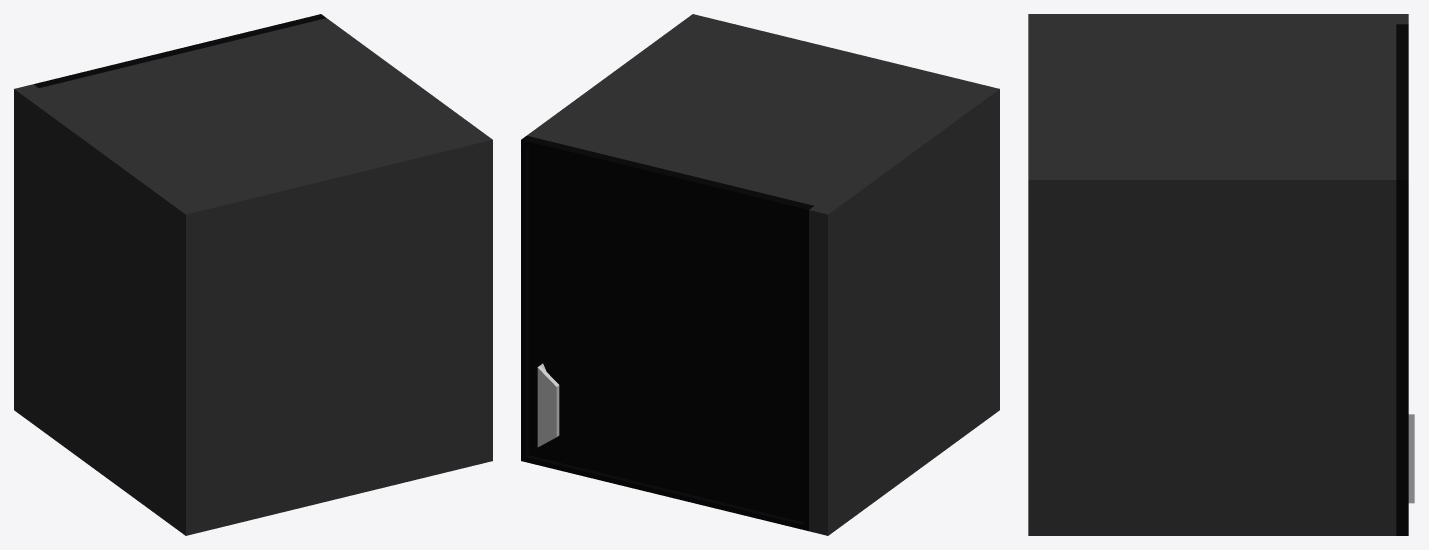
The model's file is black_cupboard.gltf.
3 views of the same model, side by side, from view 1: azimuth 30°, elevation 25°; view 2: azimuth 150°, elevation 25°; view 3: azimuth 270°, elevation 25° (orthographic). The views are drawn at different scales.
Visible parts, largest first — view 1: cube (×4); view 2: cube (×7), poignée; view 3: cube (×4), poignée.
Boxes of the visible parts, x1,y1,x2,y2 form: cube (×4): (14, 14, 492, 535); cube (×7): (521, 14, 999, 535); poignée: (537, 363, 559, 447); cube (×4): (1028, 14, 1408, 535); poignée: (1408, 414, 1414, 503).
Bounding box in the file's own units: 10 × 10 × 9.84.
